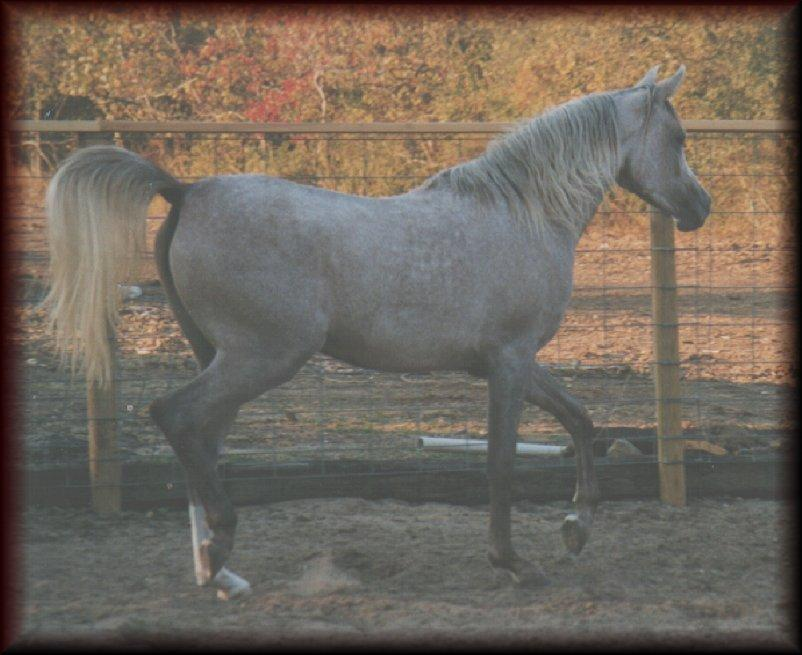horse: (37, 62, 712, 601)
